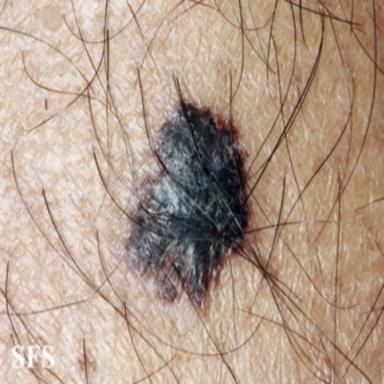Melanoma: (123, 102, 249, 321)
